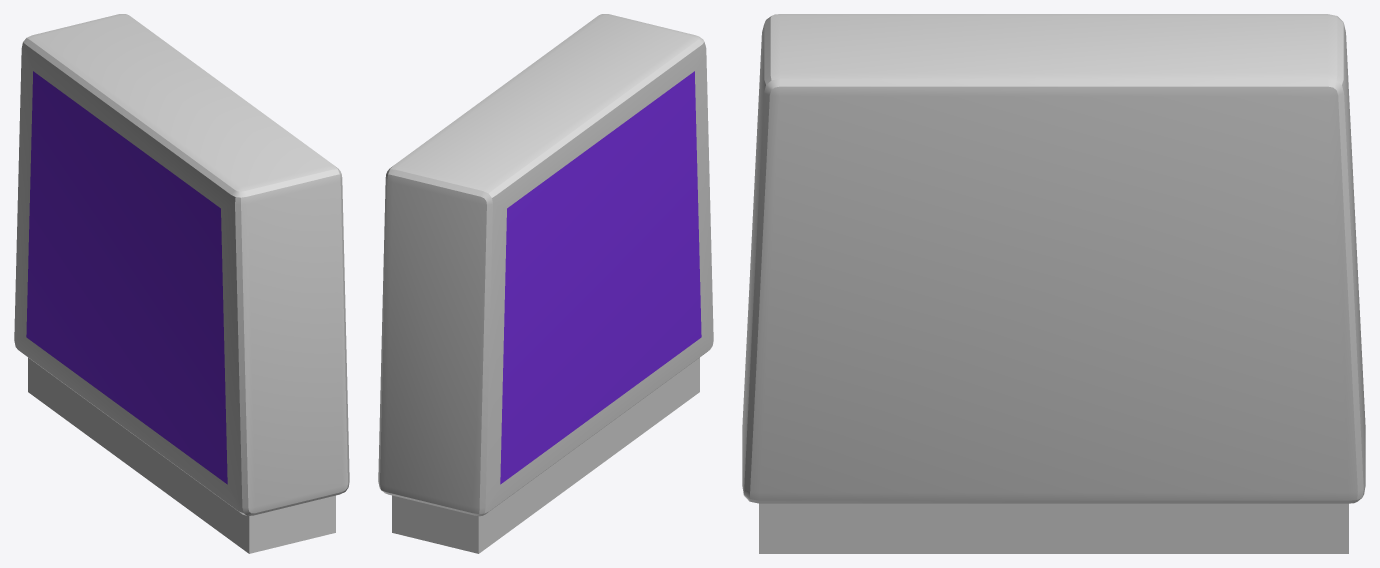
Rendered from télé.FBX.
3 renders of one model, left to right at view 1: azimuth 30°, elevation 25°; view 2: azimuth 150°, elevation 25°; view 3: azimuth 270°, elevation 25°, orthographic. The views are drawn at different scales.
Parts seen in each view (by area): view 1: télé; view 2: télé; view 3: télé.
Boxes of the visible parts, x1,y1,x2,y2 form: télé: [14, 14, 349, 553]; télé: [378, 14, 713, 553]; télé: [742, 14, 1365, 553].
Size of the model in its own units: 47.83 by 150 by 176.
